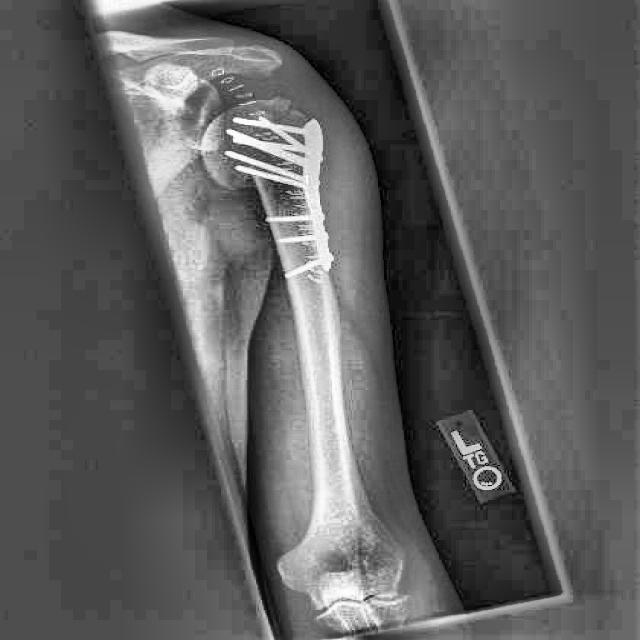humerus: (262, 96, 311, 124), (236, 168, 265, 195)
